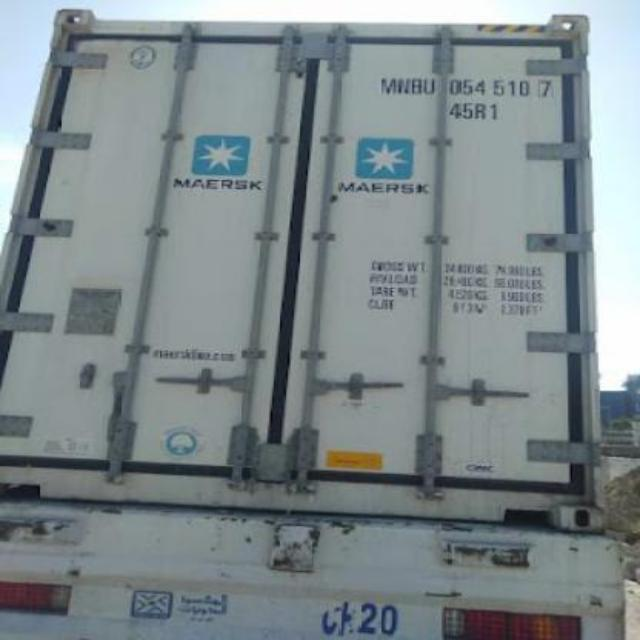0: (518, 79, 530, 99), (448, 78, 460, 94)
1: (506, 78, 516, 98)
4: (474, 76, 488, 96)
5: (491, 78, 504, 98), (458, 78, 472, 96)
7: (538, 81, 552, 97)
B: (412, 76, 422, 96)
M: (378, 78, 398, 96)
N: (398, 76, 412, 96)
U: (422, 78, 436, 96)
